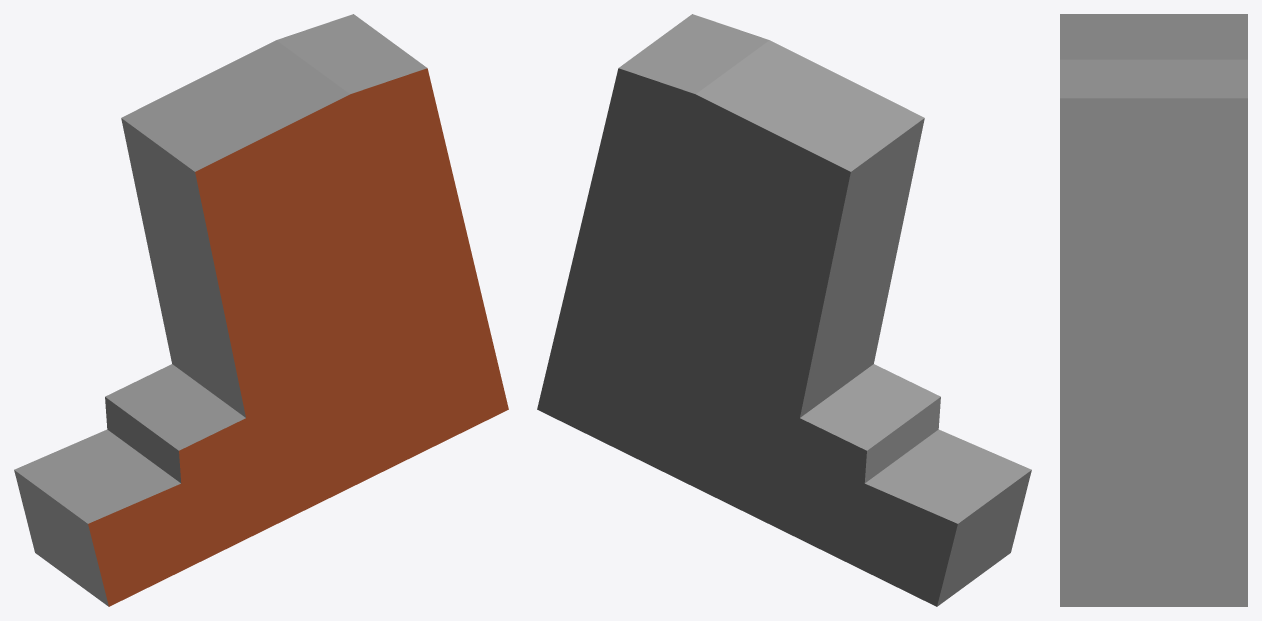
The model's file is construction_2047_assumed_A_Casa_h6m.obj.
The picture shows the model from 3 angles, left to right: view 1: azimuth 30°, elevation 25°; view 2: azimuth 150°, elevation 25°; view 3: azimuth 270°, elevation 25°; orthographic projection. The views are drawn at different scales.
Visible parts, largest first — view 1: construction_2047_assumed_A_Casa; view 2: construction_2047_assumed_A_Casa; view 3: construction_2047_assumed_A_Casa.
Boxes of the visible parts, x1,y1,x2,y2 form: construction_2047_assumed_A_Casa: (14,14,508,606); construction_2047_assumed_A_Casa: (537,14,1031,606); construction_2047_assumed_A_Casa: (1060,14,1247,606).
Size of the model in its own units: 19.71 by 20.63 by 6.
